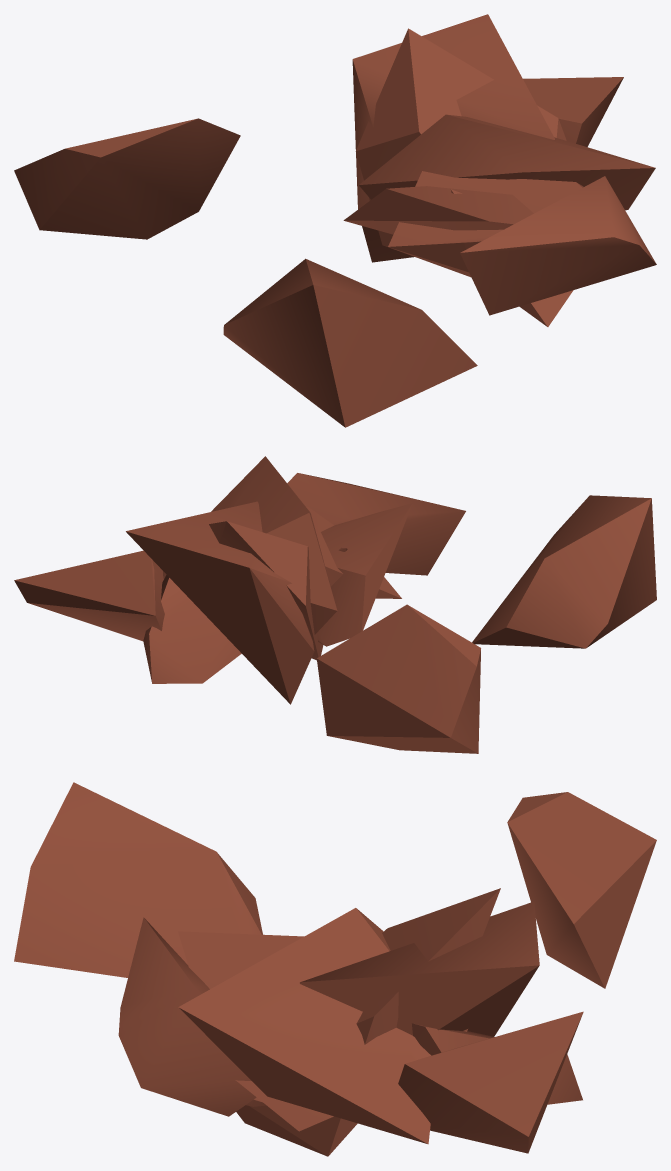
Rendered from demolition.rubble.brick_scatter.glb.
3 views of the same model, one above another, from view 1: azimuth 30°, elevation 25°; view 2: azimuth 150°, elevation 25°; view 3: azimuth 270°, elevation 25° (orthographic). The views are drawn at different scales.
Visible parts, largest first — view 1: main__brick; view 2: main__brick; view 3: main__brick.
Boxes of the visible parts, x1,y1,x2,y2 form: main__brick: (14,14,656,427); main__brick: (14,456,656,753); main__brick: (14,782,656,1156).
Bounding box in the file's own units: 0.6457 × 0.2309 × 0.5848.
